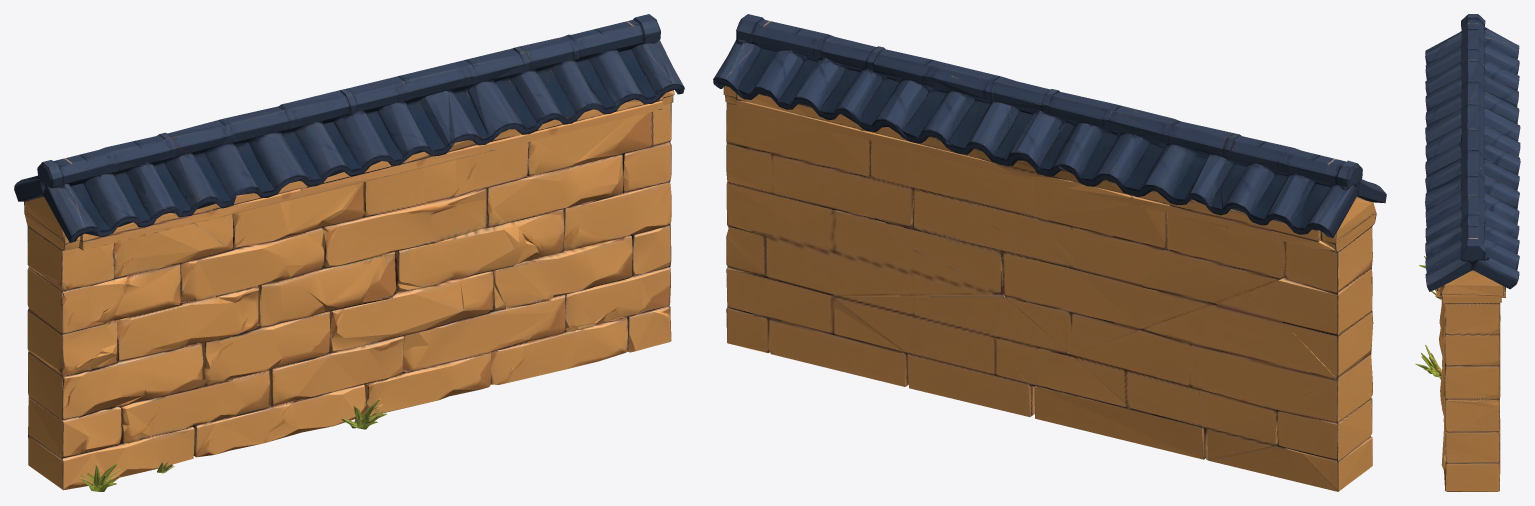
File: wall-section.glb
3 renders of one model, left to right at view 1: azimuth 30°, elevation 25°; view 2: azimuth 150°, elevation 25°; view 3: azimuth 270°, elevation 25°, orthographic. The views are drawn at different scales.
Size of the model in its own units: 1.9 by 0.9362 by 0.3607.
Materials: 1 (1 with a texture image).
